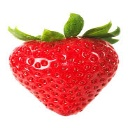strawberry: (6, 22, 122, 118)
